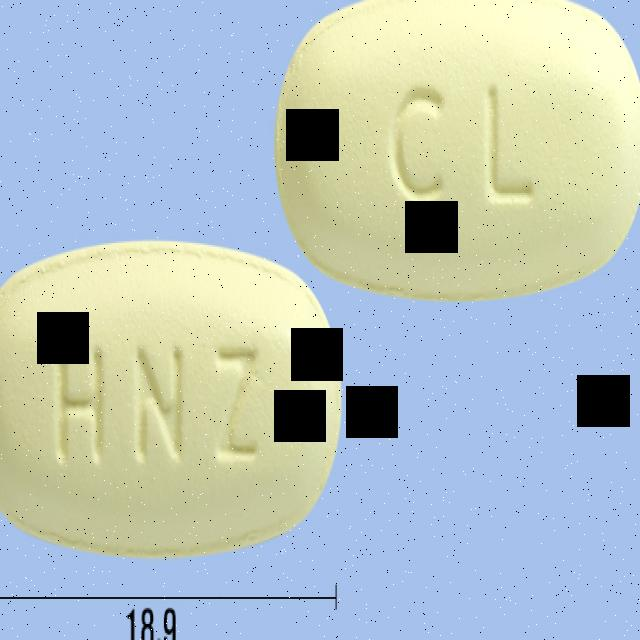Claniz: (0, 232, 349, 564), (273, 0, 640, 302)
